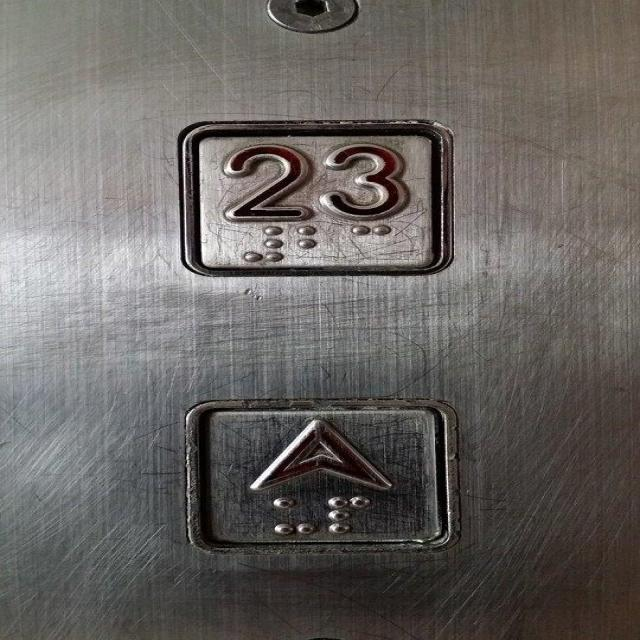23: (169, 118, 460, 282)
up: (175, 394, 466, 558)
